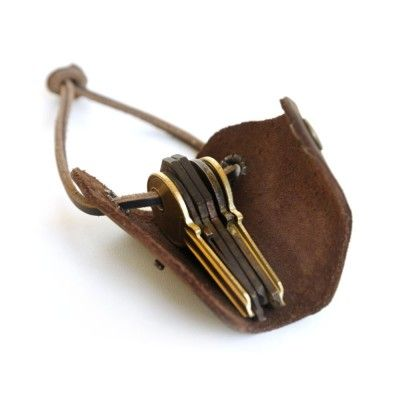cuero: (72, 97, 352, 334)
